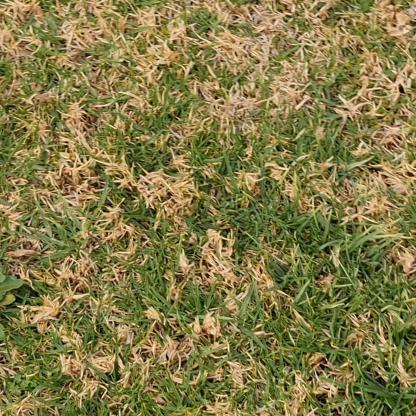Weeds: (0, 244, 21, 313)
